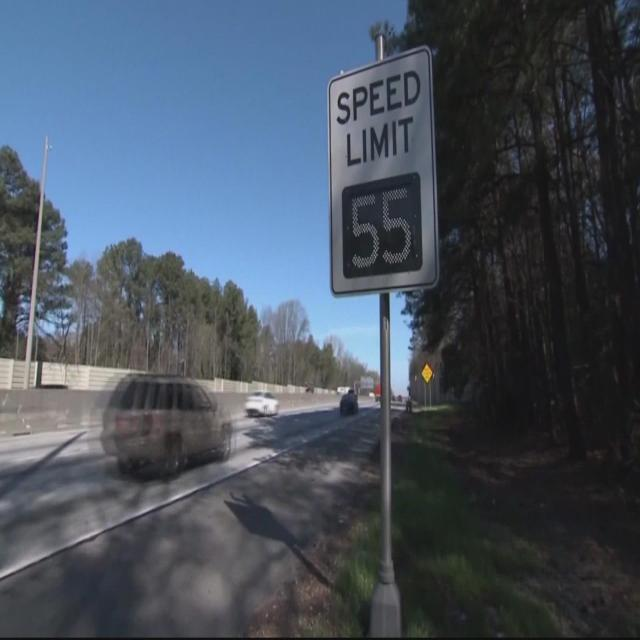speedLimit55: (324, 71, 442, 292)
